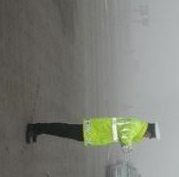person: (24, 112, 161, 151)
